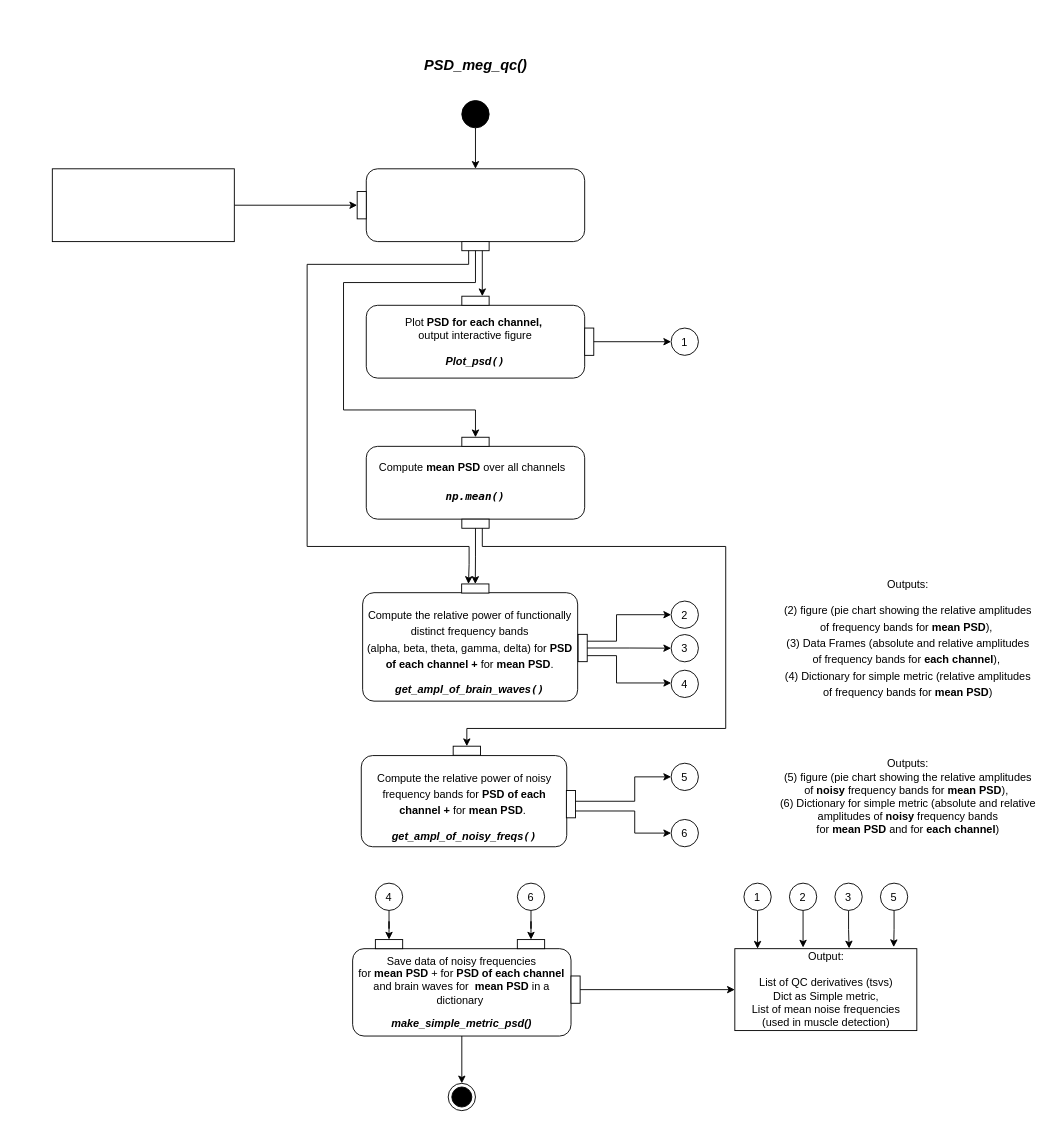
Some shapes in this 1059 by 1127 pixel diagram are drawn without their labels. Each missing label, with the centre of its shape:
"Compute PSD for each channel raw. compute_psd()" goes at point 475,205.
"Input: Raw data, Config parameters" goes at point 142,205.
